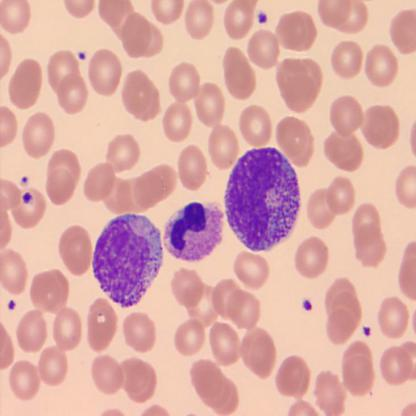Myelocyte: (225, 140, 300, 252), (90, 210, 165, 310)
